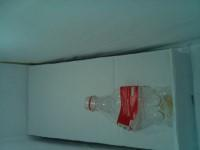bottle: (82, 81, 177, 132)
